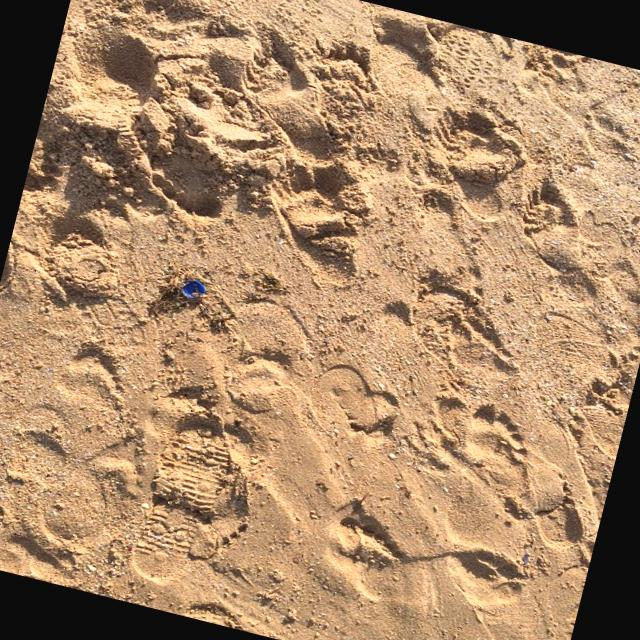Trash: (178, 272, 210, 302)
